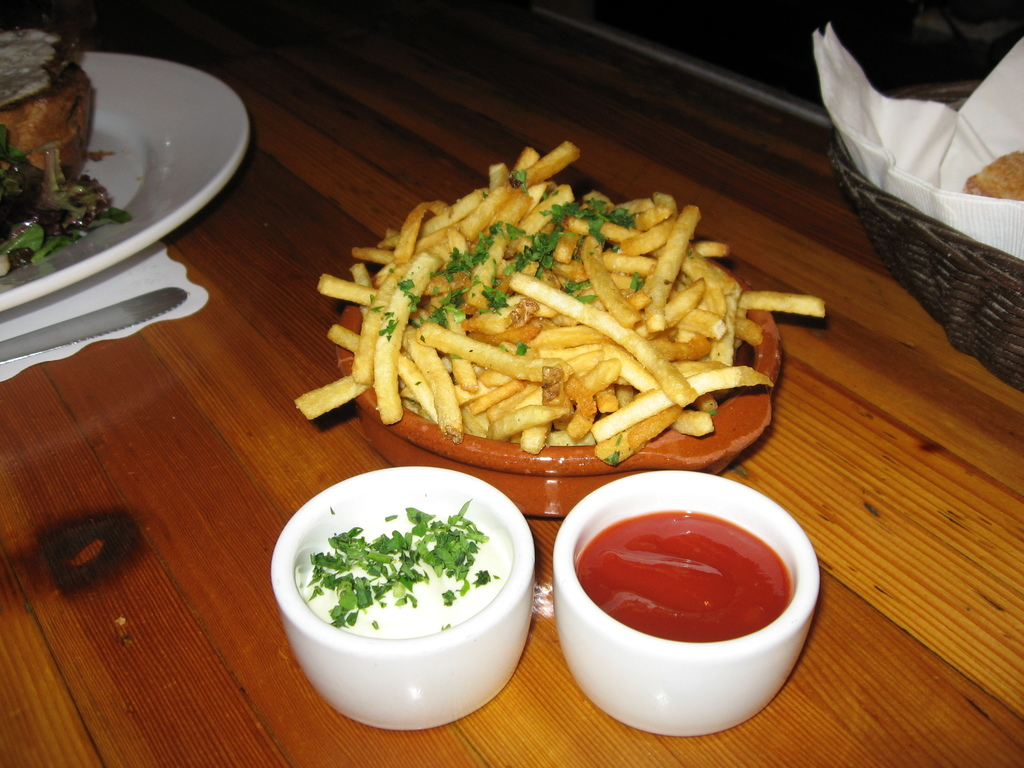French fries: (312, 183, 792, 471)
